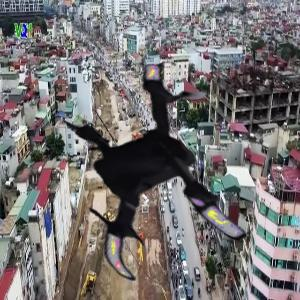drone: (31, 44, 274, 287)
